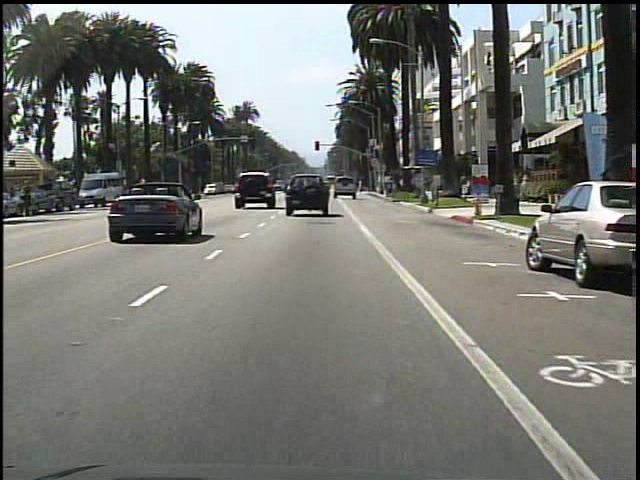person: (23, 177, 39, 220)
